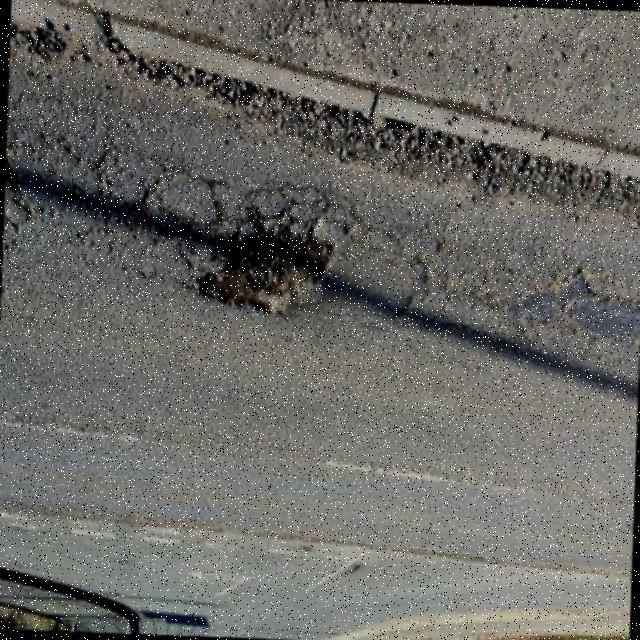Pothole: (196, 209, 330, 312)
